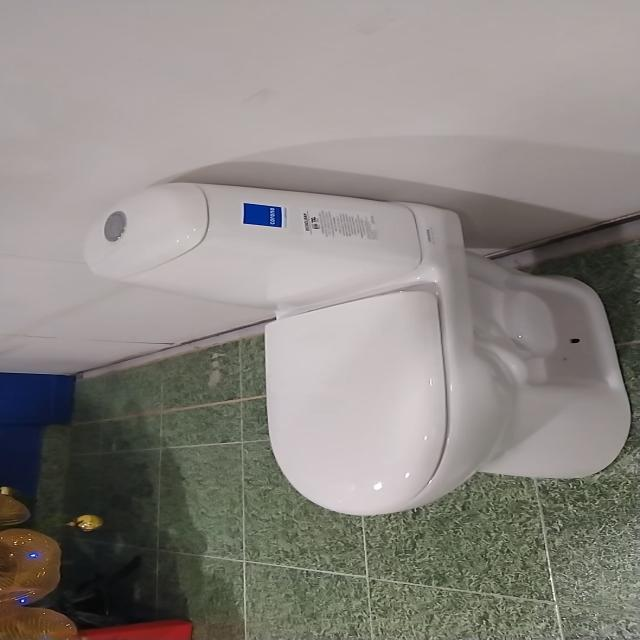toilet: (65, 177, 640, 520)
